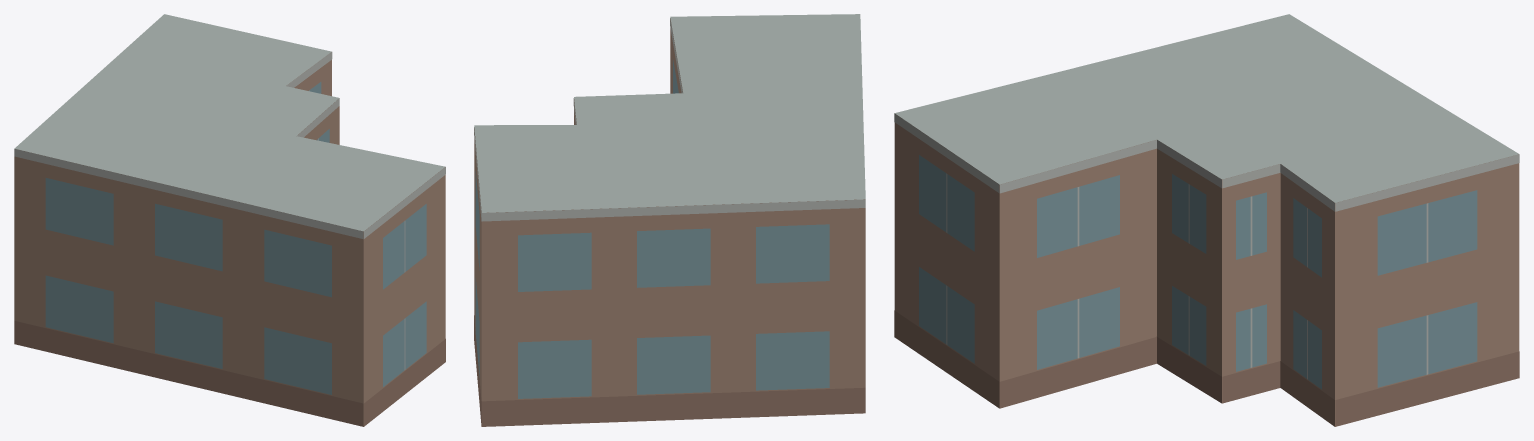
File: survey-upis-32767722.glb
The picture shows the model from 3 angles, left to right: view 1: azimuth 30°, elevation 25°; view 2: azimuth 150°, elevation 25°; view 3: azimuth 270°, elevation 25°; orthographic projection. The views are drawn at different scales.
Visible parts, largest first — view 1: survey-upis-32767722.tmp; view 2: survey-upis-32767722.tmp; view 3: survey-upis-32767722.tmp.
Boxes of the visible parts, x1,y1,x2,y2 form: survey-upis-32767722.tmp: (14, 14, 445, 426); survey-upis-32767722.tmp: (474, 14, 865, 426); survey-upis-32767722.tmp: (894, 14, 1519, 426).
Bounding box in the file's own units: 11.04 × 6.1 × 15.44.
